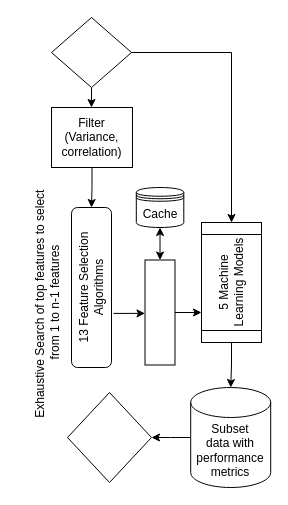
The diagram is 288 pixels wide and 505 high, and some of its shapes have lost their labels. The centre of each missing label's shape, as x and y in pixels:
"Best Subset, Features Ranks" belongs at pixel 109 437.
"Cross Validation" belongs at pixel 159 312.
"Data (n features)" belongs at pixel 91 52.
